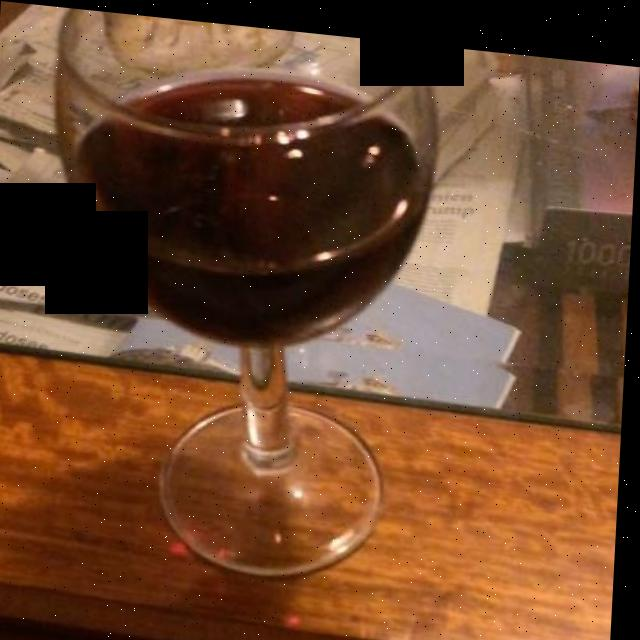wine-red: (76, 73, 433, 343)
